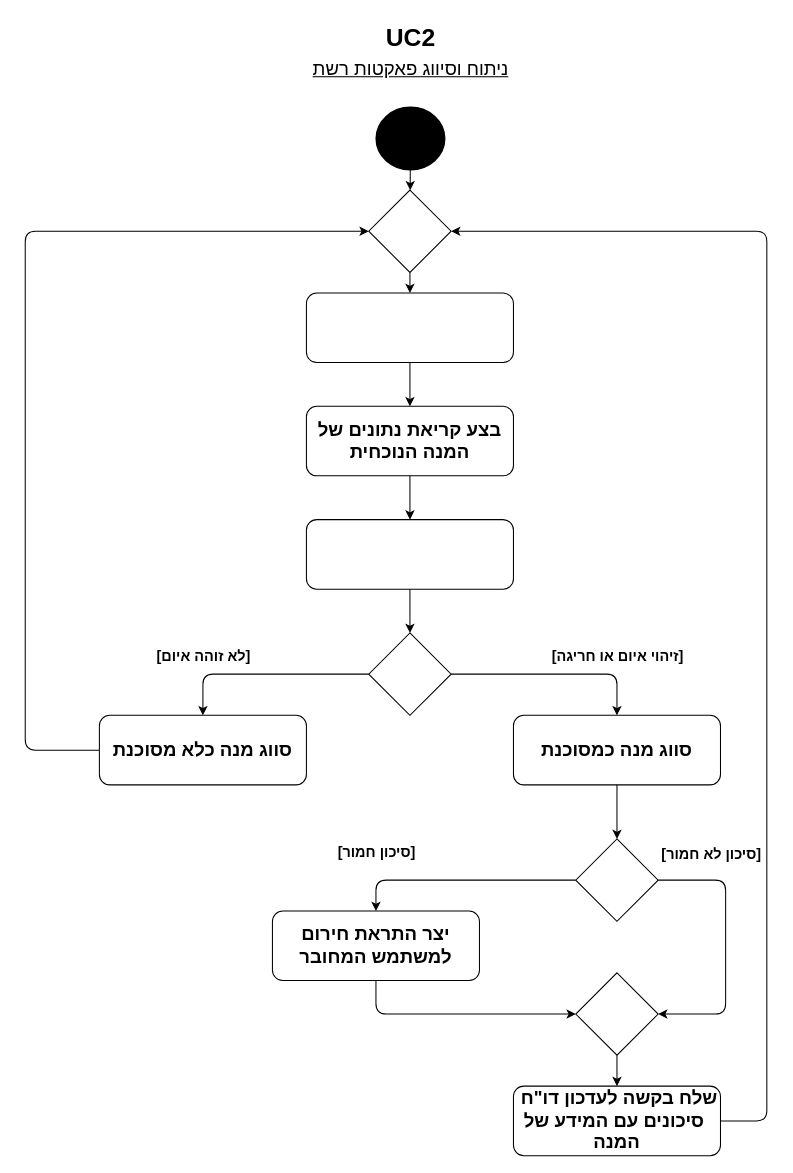
The diagram is 793 pixels wide and 1173 high, and some of its shapes have lost their labels. The box of each missing label's shape, as (x1, y1, x2, y2) in pixels:
העבר נתונים לזיהוי איומים בדוק מול הגדרות מנהל וחוקי איומים: (305, 519, 513, 589)
שלוף מנה מהתור לניתוח: (305, 292, 513, 363)
